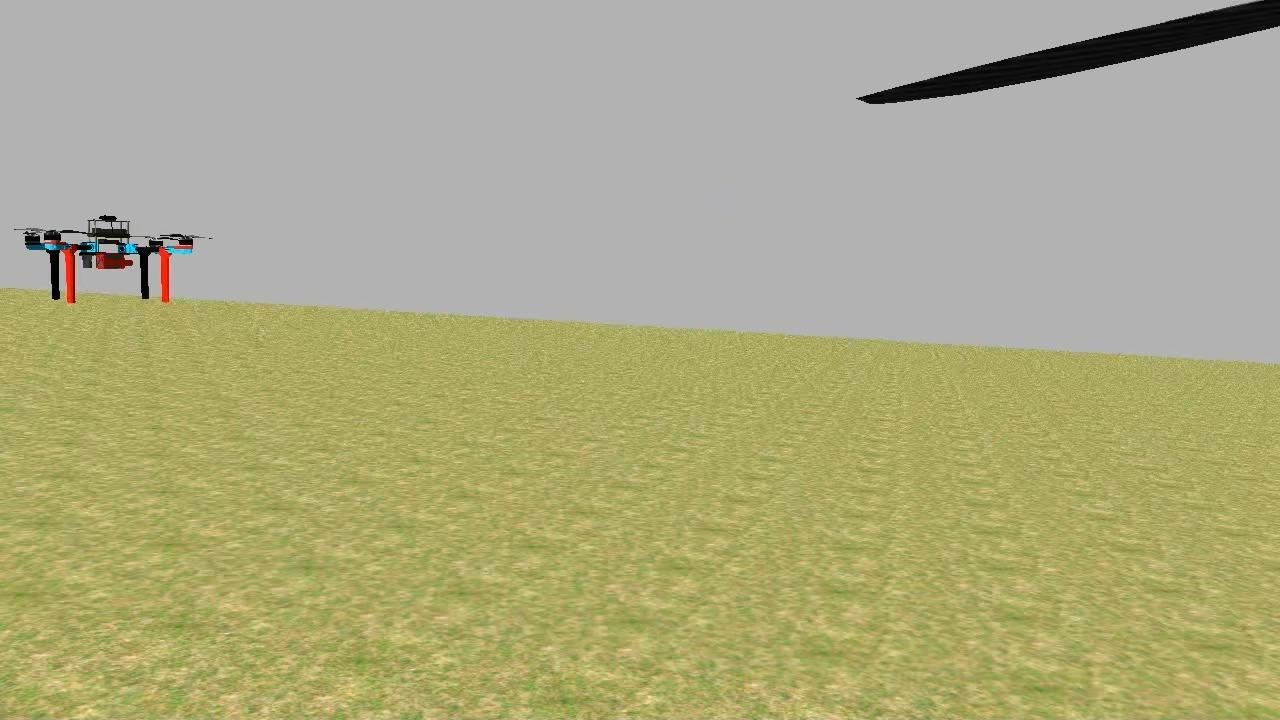UAV: (24, 210, 207, 317)
